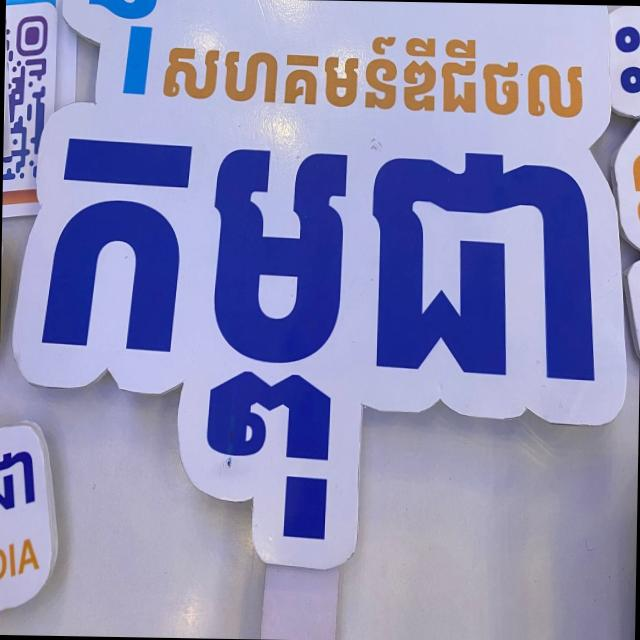Yolov11_80vkh: (18, 119, 610, 583), (153, 20, 595, 131)
